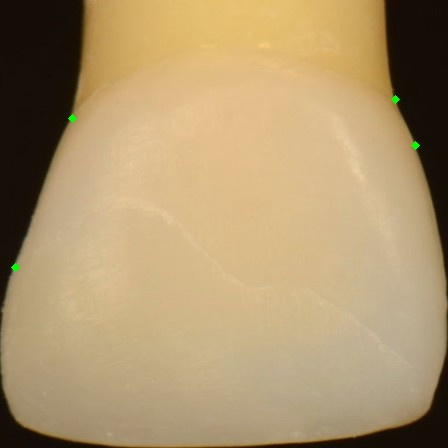coin_1: (72, 118, 92, 138)
coin_2: (15, 267, 35, 287)
coin_3: (395, 99, 415, 119)
coin_4: (415, 145, 435, 165)
